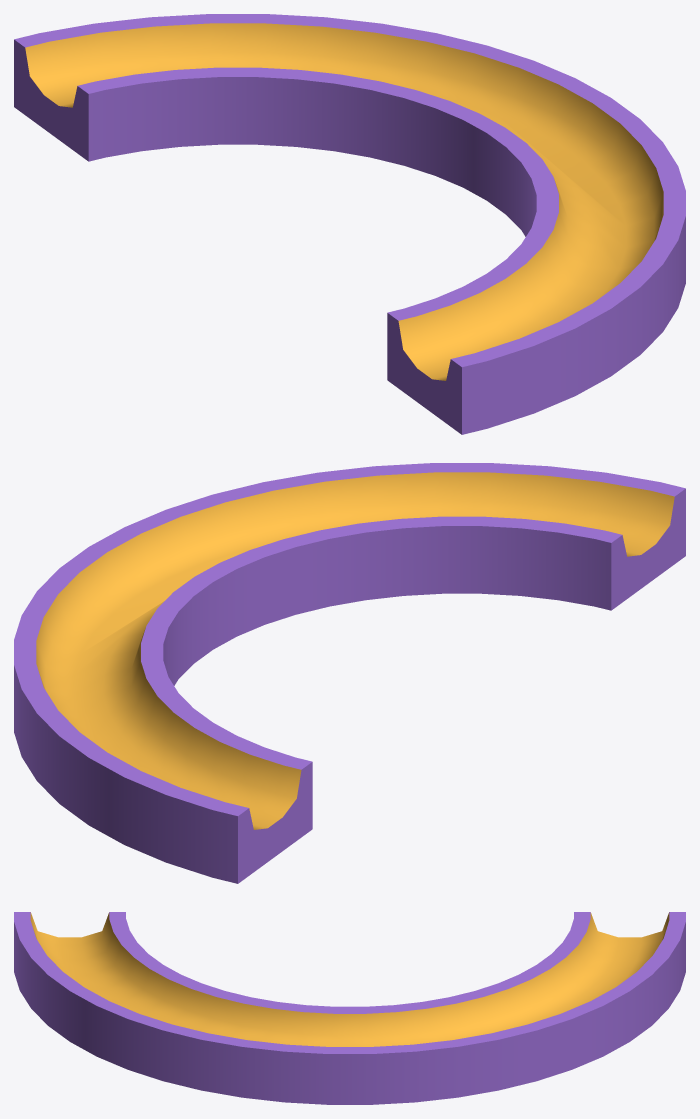
File: bend-large.glb
The picture shows the model from 3 angles, top to bottom: view 1: azimuth 30°, elevation 25°; view 2: azimuth 150°, elevation 25°; view 3: azimuth 270°, elevation 25°; orthographic projection. The views are drawn at different scales.
Visible parts, largest first — view 1: bend-large; view 2: bend-large; view 3: bend-large.
Boxes of the visible parts, box(x1,y1,x2,y2) form: bend-large: box(14, 14, 685, 434); bend-large: box(14, 463, 685, 883); bend-large: box(14, 912, 685, 1104).
Bounding box in the file's own units: 3 × 0.5003 × 6.
1 material, 1 textured.
